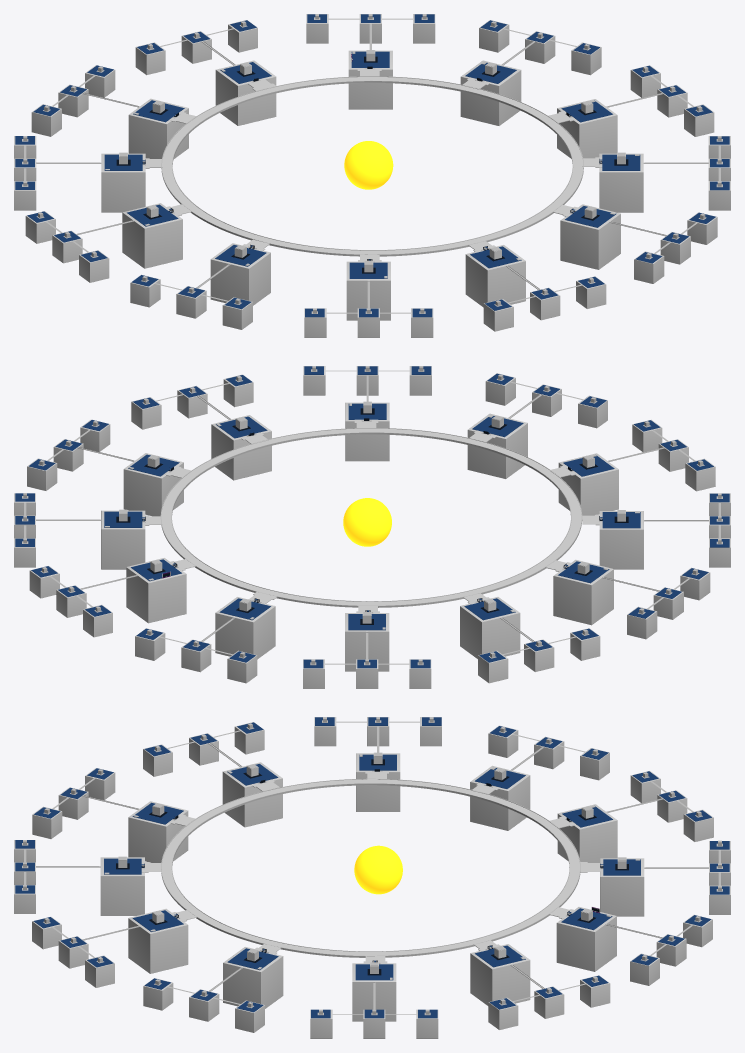
The model's file is gallery.glb.
3 views of the same model, one above another, from view 1: azimuth 30°, elevation 25°; view 2: azimuth 150°, elevation 25°; view 3: azimuth 270°, elevation 25° (orthographic).
Parts seen in each view (by area): view 1: Tube, Cube_11_19, Cube_5_8, Cube_12_22, Cube_4_5, Cube_2, Cube_13_23, Cube_8_9, Cube_10_17, Cube_6_7, Cube_7_8, Sphere (+39 smaller); view 2: Tube, Cube_9_16, Cube_11_19, Cube_13_23, Cube_7_8, Cube_10_17, Cube_3_3, Cube_6_7, Cube_12_22, Cube_4_5, Cube_2, Sphere (+36 smaller); view 3: Tube, Cube_5_8, Cube_9_16, Cube_6_7, Cube_2, Cube_4_5, Cube_7_8, Cube_3_3, Cube_12_22, Cube_13_23, Cube_8_9, Sphere (+33 smaller).
Part boxes in pixels (<box>): Tube: <box>162,77,583,256</box>; Cube_11_19: <box>122,203,182,268</box>; Cube_5_8: <box>560,204,620,269</box>; Cube_12_22: <box>465,245,525,307</box>; Cube_4_5: <box>210,243,270,305</box>; Cube_2: <box>460,60,521,125</box>; Cube_13_23: <box>215,60,276,125</box>; Cube_8_9: <box>128,98,188,158</box>; Cube_10_17: <box>557,99,617,158</box>; Cube_6_7: <box>599,153,643,212</box>; Cube_7_8: <box>101,153,145,212</box>; Sphere: <box>344,141,393,189</box>; Tube: <box>161,428,581,607</box>; Cube_9_16: <box>126,558,186,623</box>; Cube_11_19: <box>553,559,613,625</box>; Cube_13_23: <box>215,597,275,659</box>; Cube_7_8: <box>460,597,520,658</box>; Cube_10_17: <box>123,453,183,516</box>; Cube_3_3: <box>558,453,618,515</box>; Cube_6_7: <box>211,415,271,480</box>; Cube_12_22: <box>467,413,527,478</box>; Cube_4_5: <box>599,511,643,569</box>; Cube_2: <box>101,510,145,569</box>; Sphere: <box>343,498,391,546</box>; Tube: <box>162,779,579,957</box>; Cube_5_8: <box>128,908,188,973</box>; Cube_9_16: <box>556,907,616,971</box>; Cube_6_7: <box>223,947,283,1008</box>; Cube_2: <box>470,944,530,1005</box>; Cube_4_5: <box>222,762,282,827</box>; Cube_7_8: <box>470,765,530,830</box>; Cube_3_3: <box>128,801,188,862</box>; Cube_12_22: <box>100,857,144,915</box>; Cube_13_23: <box>600,858,644,916</box>; Cube_8_9: <box>557,804,617,862</box>; Sphere: <box>354,845,402,894</box>.
Bounding box in the file's own units: 161821 × 14892 × 162506.
